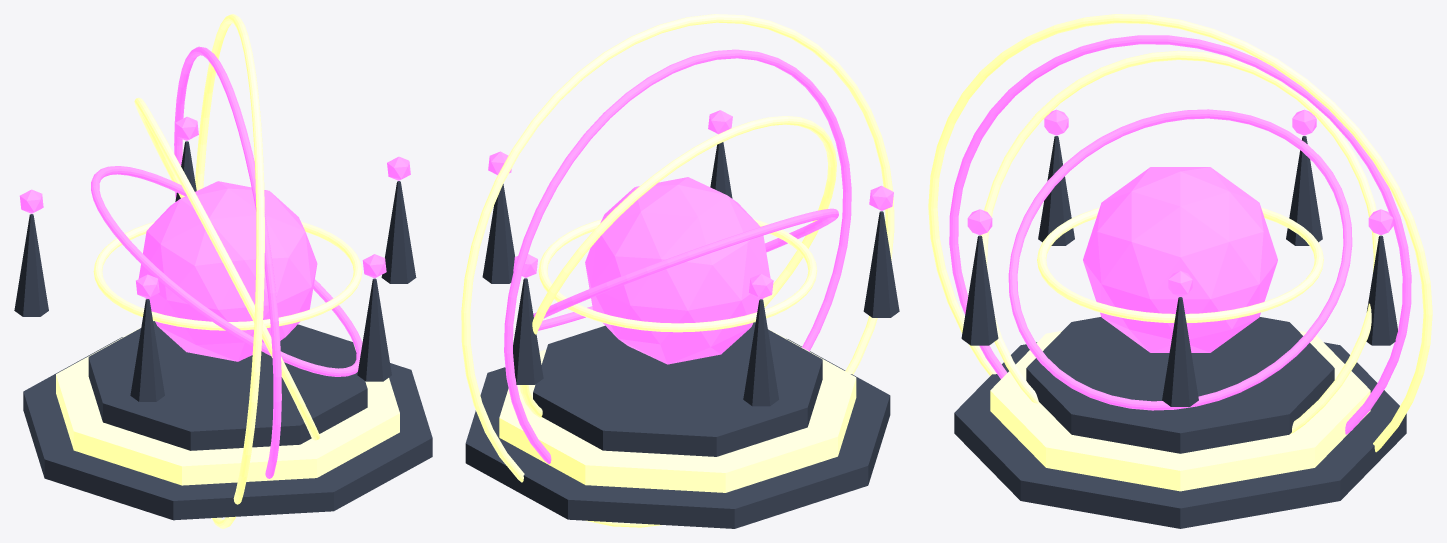
File: gpu-blender-v41.glb
3 views of the same model, side by side, from view 1: azimuth 30°, elevation 25°; view 2: azimuth 150°, elevation 25°; view 3: azimuth 270°, elevation 25° (orthographic). The views are drawn at different scales.
Visible parts, largest first — view 1: Cylinder.002, Cylinder, SovereignCore_promptmaster-studio, Cylinder.001, Torus.004, Torus.003, Torus.001, Torus, Torus.002, Cone.004, Cone.002, Cone.003 (+1 smaller); view 2: Cylinder.002, SovereignCore_promptmaster-studio, Cylinder, Cylinder.001, Torus.004, Torus.003, Torus.002, Torus, Torus.001, Cone.002, Cone.003, Cone (+2 smaller); view 3: SovereignCore_promptmaster-studio, Cylinder.002, Cylinder, Cylinder.001, Torus.004, Torus.001, Torus.003, Torus.002, Torus, Cone.004, Cone, Cone.001 (+2 smaller).
Boxes of the visible parts, left/top/right/bottom form: Cylinder.002: left=88, top=321, right=367, bottom=450; Cylinder: left=23, top=337, right=432, bottom=520; SovereignCore_promptmaster-studio: left=138, top=181, right=317, bottom=361; Cylinder.001: left=56, top=328, right=399, bottom=485; Torus.004: left=195, top=14, right=264, bottom=528; Torus.003: left=174, top=46, right=281, bottom=478; Torus.001: left=91, top=166, right=362, bottom=376; Torus: left=93, top=221, right=362, bottom=330; Torus.002: left=134, top=97, right=320, bottom=440; Cone.004: left=357, top=278, right=391, bottom=381; Cone.002: left=14, top=214, right=48, bottom=316; Cone.003: left=130, top=299, right=164, bottom=401; Cylinder.002: left=533, top=322, right=822, bottom=456; SovereignCore_promptmaster-studio: left=585, top=177, right=770, bottom=364; Cylinder: left=465, top=338, right=890, bottom=528; Cylinder.001: left=499, top=330, right=856, bottom=492; Torus.004: left=461, top=14, right=894, bottom=527; Torus.003: left=504, top=49, right=851, bottom=463; Torus.002: left=519, top=116, right=836, bottom=417; Torus: left=538, top=219, right=817, bottom=332; Torus.001: left=533, top=208, right=838, bottom=330; Cone.002: left=743, top=299, right=778, bottom=406; Cone.003: left=863, top=211, right=899, bottom=317; Cone: left=482, top=184, right=514, bottom=283; SovereignCore_promptmaster-studio: left=1083, top=167, right=1277, bottom=352; Cylinder.002: left=1026, top=317, right=1334, bottom=453; Cylinder: left=954, top=342, right=1406, bottom=528; Cylinder.001: left=990, top=330, right=1370, bottom=491; Torus.004: left=928, top=14, right=1432, bottom=452; Torus.001: left=1008, top=109, right=1352, bottom=410; Torus.003: left=949, top=35, right=1411, bottom=434; Torus.002: left=980, top=50, right=1380, bottom=433; Torus: left=1037, top=207, right=1323, bottom=322; Cone.004: left=961, top=235, right=998, bottom=345; Cone: left=1162, top=297, right=1198, bottom=406; Cone.001: left=1366, top=235, right=1397, bottom=345.
Size of the model in its own units: 4.41 by 5.33 by 4.9.
